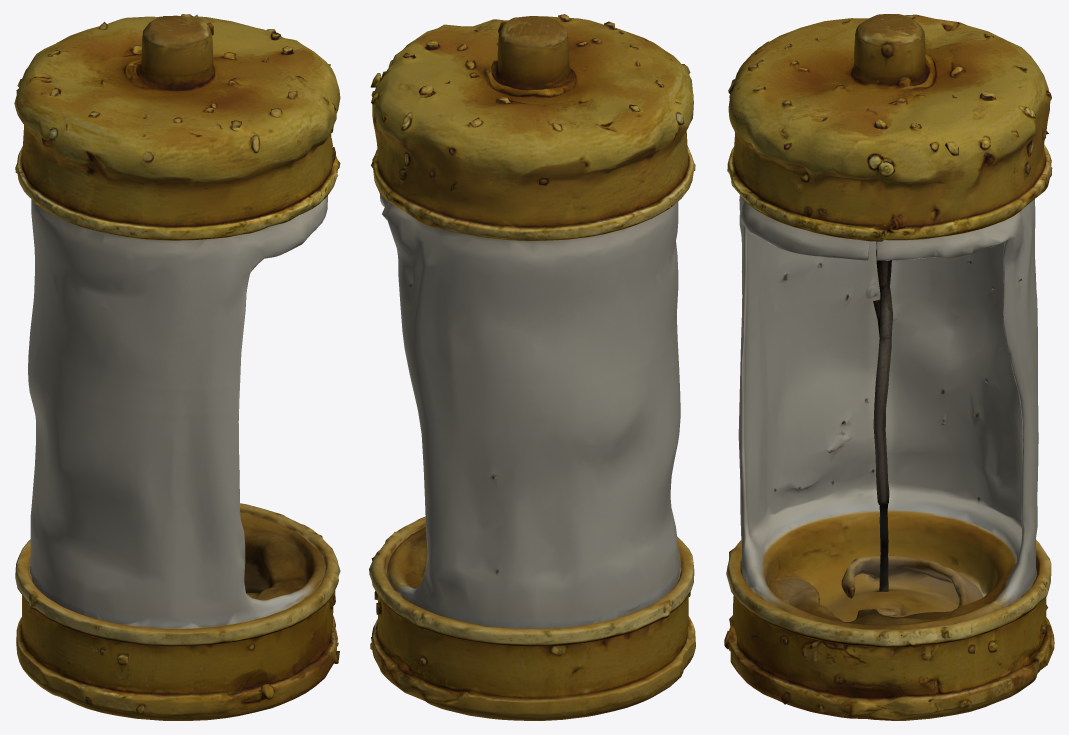
3 views of the same model, side by side, from view 1: azimuth 30°, elevation 25°; view 2: azimuth 150°, elevation 25°; view 3: azimuth 270°, elevation 25° (orthographic).
Parts seen in each view (by area): view 1: tripo_node_38c5282a-af5f-47bd-b68d-a91eeeebd50c; view 2: tripo_node_38c5282a-af5f-47bd-b68d-a91eeeebd50c; view 3: tripo_node_38c5282a-af5f-47bd-b68d-a91eeeebd50c.
Boxes of the visible parts, bbox=[...] form: tripo_node_38c5282a-af5f-47bd-b68d-a91eeeebd50c: bbox=[14, 14, 340, 720]; tripo_node_38c5282a-af5f-47bd-b68d-a91eeeebd50c: bbox=[369, 14, 695, 720]; tripo_node_38c5282a-af5f-47bd-b68d-a91eeeebd50c: bbox=[724, 14, 1054, 720].
Bounding box in the file's own units: 0.4718 × 1 × 0.4721.
1 material, 1 textured.
